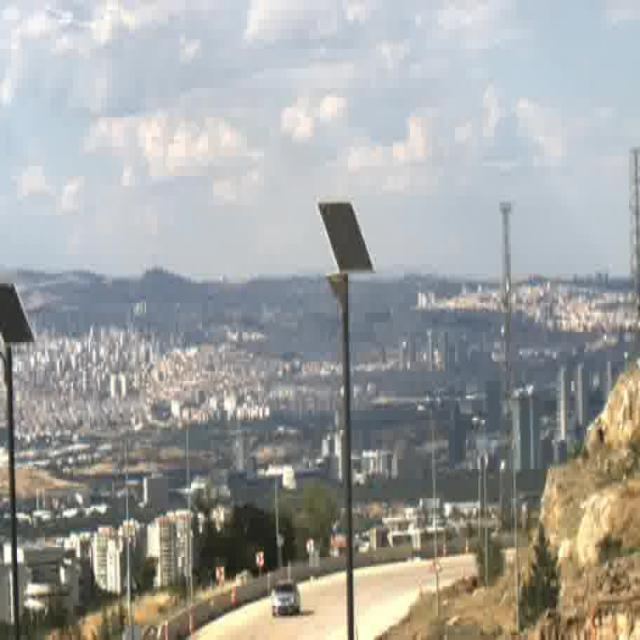Car: (270, 582, 300, 616)
